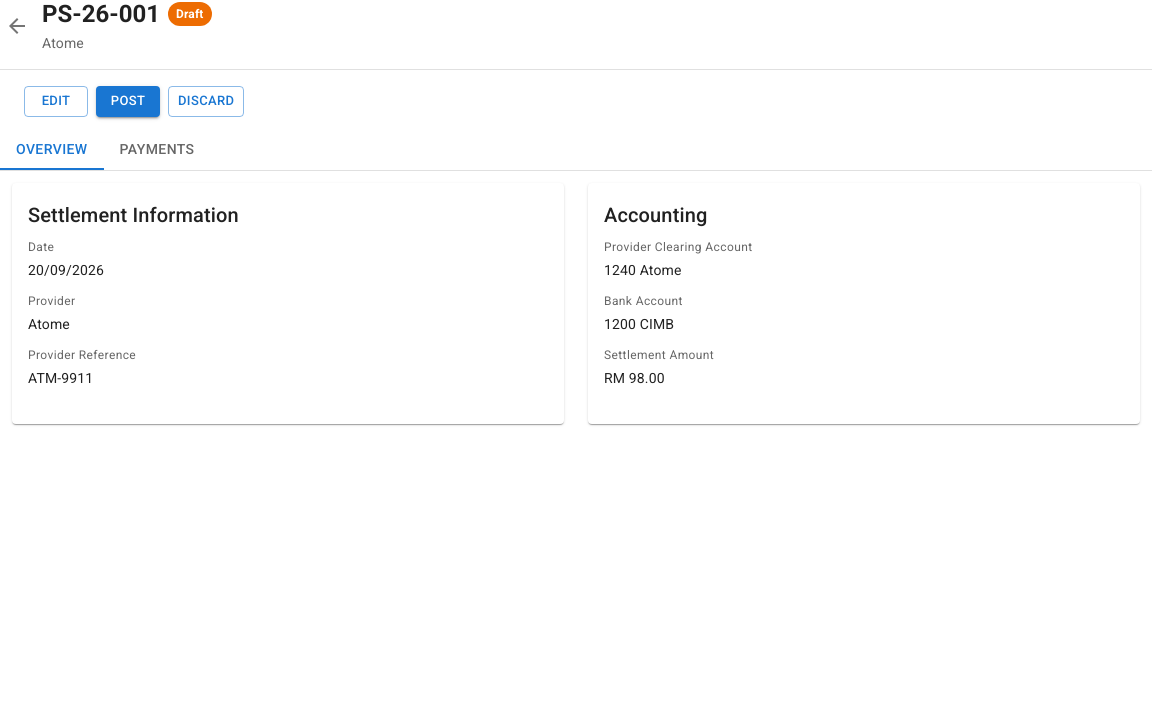
Test: ProviderSettlementDetailView › document actions › disables confirming Post while its mutation is pending
Click the button "Post" at (128, 101), box [96,86,160,117]
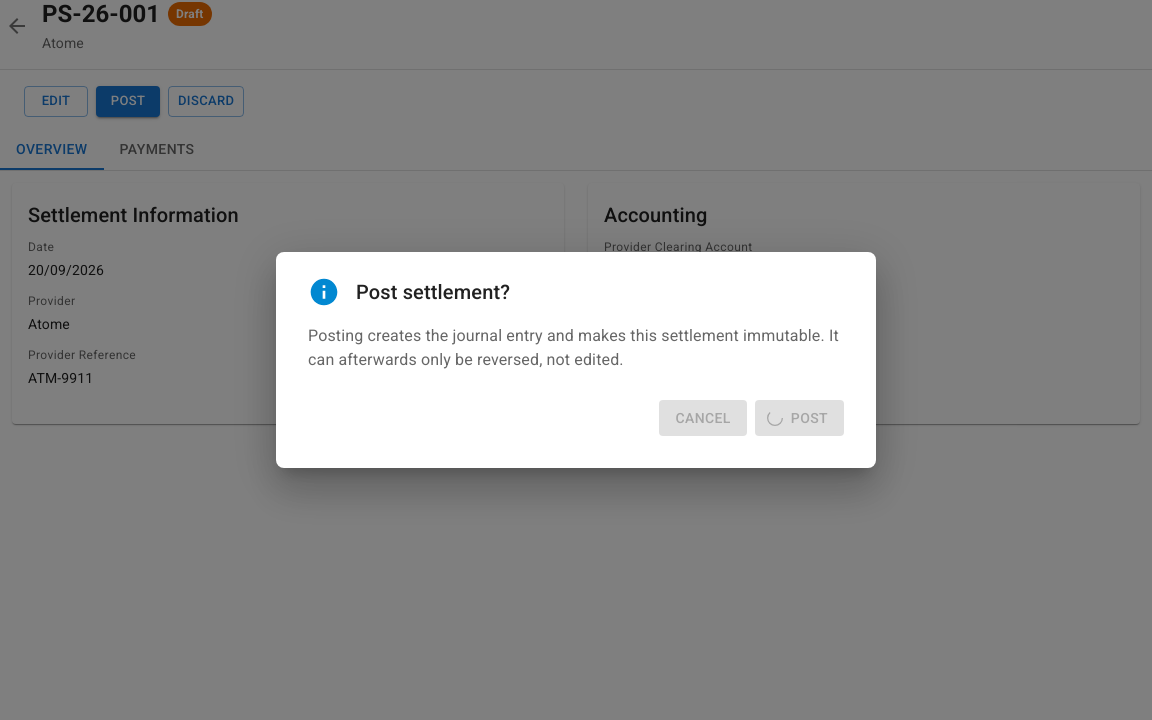
Result: the button "Post" is disabled at [755,400,844,436]
